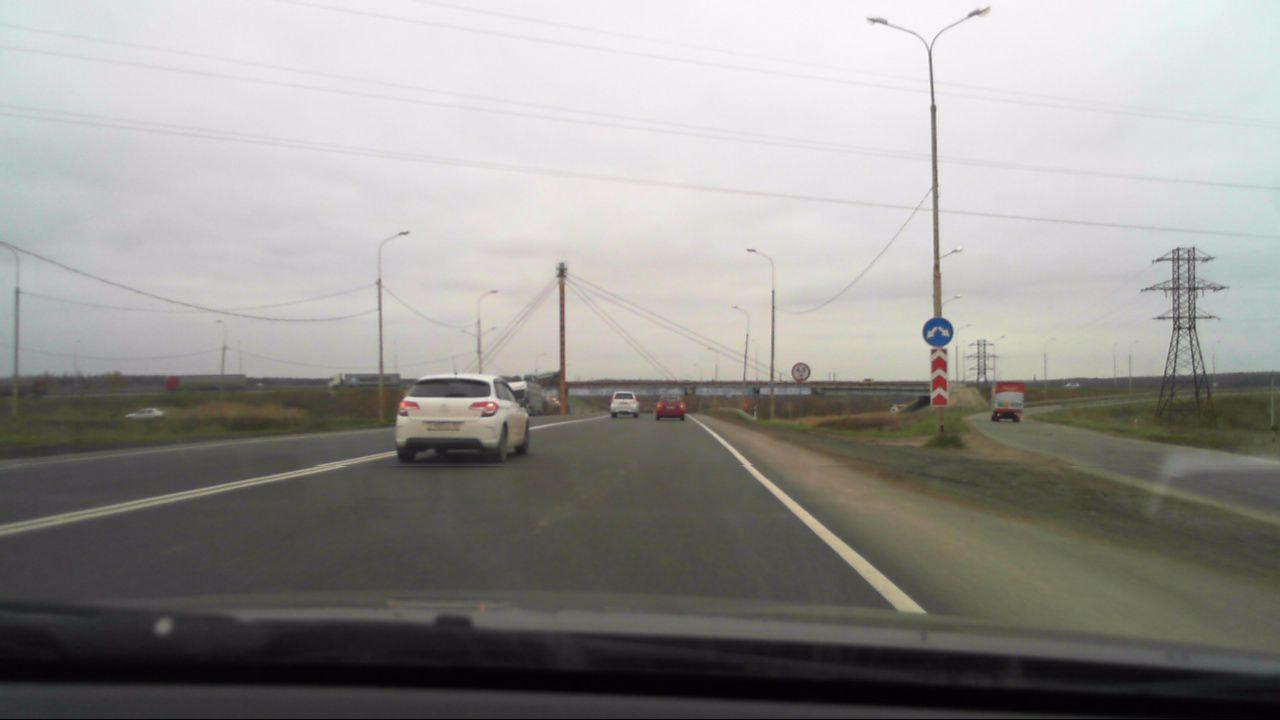3_13: (790, 361, 813, 382)
4_2_3: (922, 316, 954, 347)
8_22_3: (929, 347, 950, 410)
